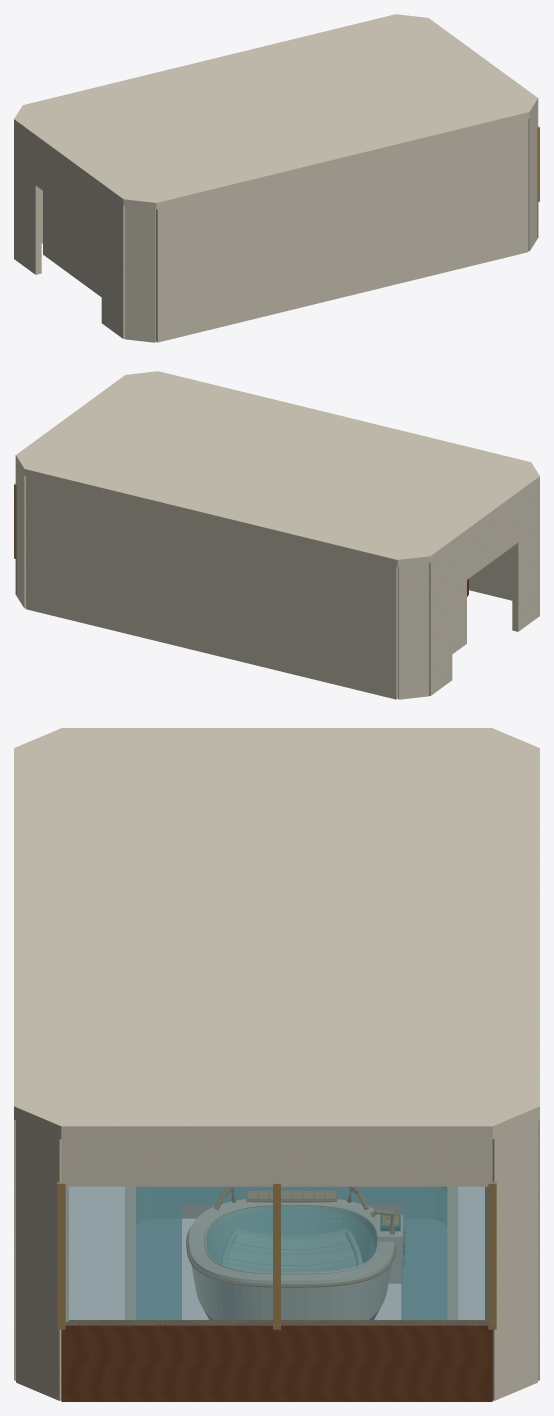
The model's file is D04_PORT_FORWARD_HOME_892_r001.glb.
3 views of the same model, one above another, from view 1: azimuth 30°, elevation 25°; view 2: azimuth 150°, elevation 25°; view 3: azimuth 270°, elevation 25° (orthographic). The views are drawn at different scales.
Parts seen in each view (by area): view 1: D04H892_Roof, D04H892_Shell_3, D04H892_Shell_2, D04H892_BathDogleg, D04H892_EntryWall_0, D04H892_EntryWall_1, D04H892_EntryHeader, D04H892_Shell_4; view 2: D04H892_Roof, D04H892_Shell_7, D04H892_Shell_0, D04H892_EntryWall_1, D04H892_EntryWall_0, D04H892_EntryHeader, D04H892_Shell_3, D04H892_Shell_6, D04H892_BathDogleg; view 3: D04H892_Roof, D04H892_GardenGlass, D04H892_GardenDado, D04H892_GardenHead, D04H892_ReservedAquaticRest__Hollow continuous basin shell w, D04H892_Water_0, D04H892_Shell_4, D04H892_Shell_6, D04H892_ReservedAquaticRest__Contoured broad immersed rest s, D04H892_AquaticBasinRim, D04H892_WindowMullion_0, D04H892_WindowMullion_2 (+1 smaller).
Part boxes in pixels (x1,y1,x2,y2): D04H892_Roof: [14, 14, 538, 209]; D04H892_Shell_3: [156, 119, 527, 342]; D04H892_Shell_2: [125, 206, 155, 342]; D04H892_BathDogleg: [43, 191, 101, 296]; D04H892_EntryWall_0: [14, 126, 41, 274]; D04H892_EntryWall_1: [101, 190, 124, 338]; D04H892_EntryHeader: [35, 142, 101, 233]; D04H892_Shell_4: [528, 106, 537, 251]; D04H892_Roof: [15, 371, 539, 566]; D04H892_Shell_7: [26, 476, 397, 699]; D04H892_Shell_0: [398, 563, 428, 699]; D04H892_EntryWall_1: [512, 483, 539, 631]; D04H892_EntryWall_0: [429, 547, 452, 695]; D04H892_EntryHeader: [452, 499, 518, 590]; D04H892_Shell_3: [469, 547, 512, 600]; D04H892_Shell_6: [16, 463, 25, 608]; D04H892_BathDogleg: [452, 580, 466, 653]; D04H892_Roof: [14, 728, 539, 1139]; D04H892_GardenGlass: [65, 1186, 487, 1325]; D04H892_GardenDado: [61, 1320, 492, 1401]; D04H892_GardenHead: [61, 1139, 492, 1186]; D04H892_ReservedAquaticRest__Hollow continuous basin shell w: [188, 1199, 394, 1319]; D04H892_Water_0: [136, 1187, 446, 1319]; D04H892_Shell_4: [16, 1120, 68, 1400]; D04H892_Shell_6: [485, 1120, 537, 1400]; D04H892_ReservedAquaticRest__Contoured broad immersed rest s: [227, 1229, 355, 1272]; D04H892_AquaticBasinRim: [125, 1187, 457, 1319]; D04H892_WindowMullion_0: [488, 1181, 496, 1329]; D04H892_WindowMullion_2: [57, 1181, 65, 1329].
Size of the model in its own units: 12.93 by 4.16 by 7.2.
Materials: 39 (20 with a texture image).
